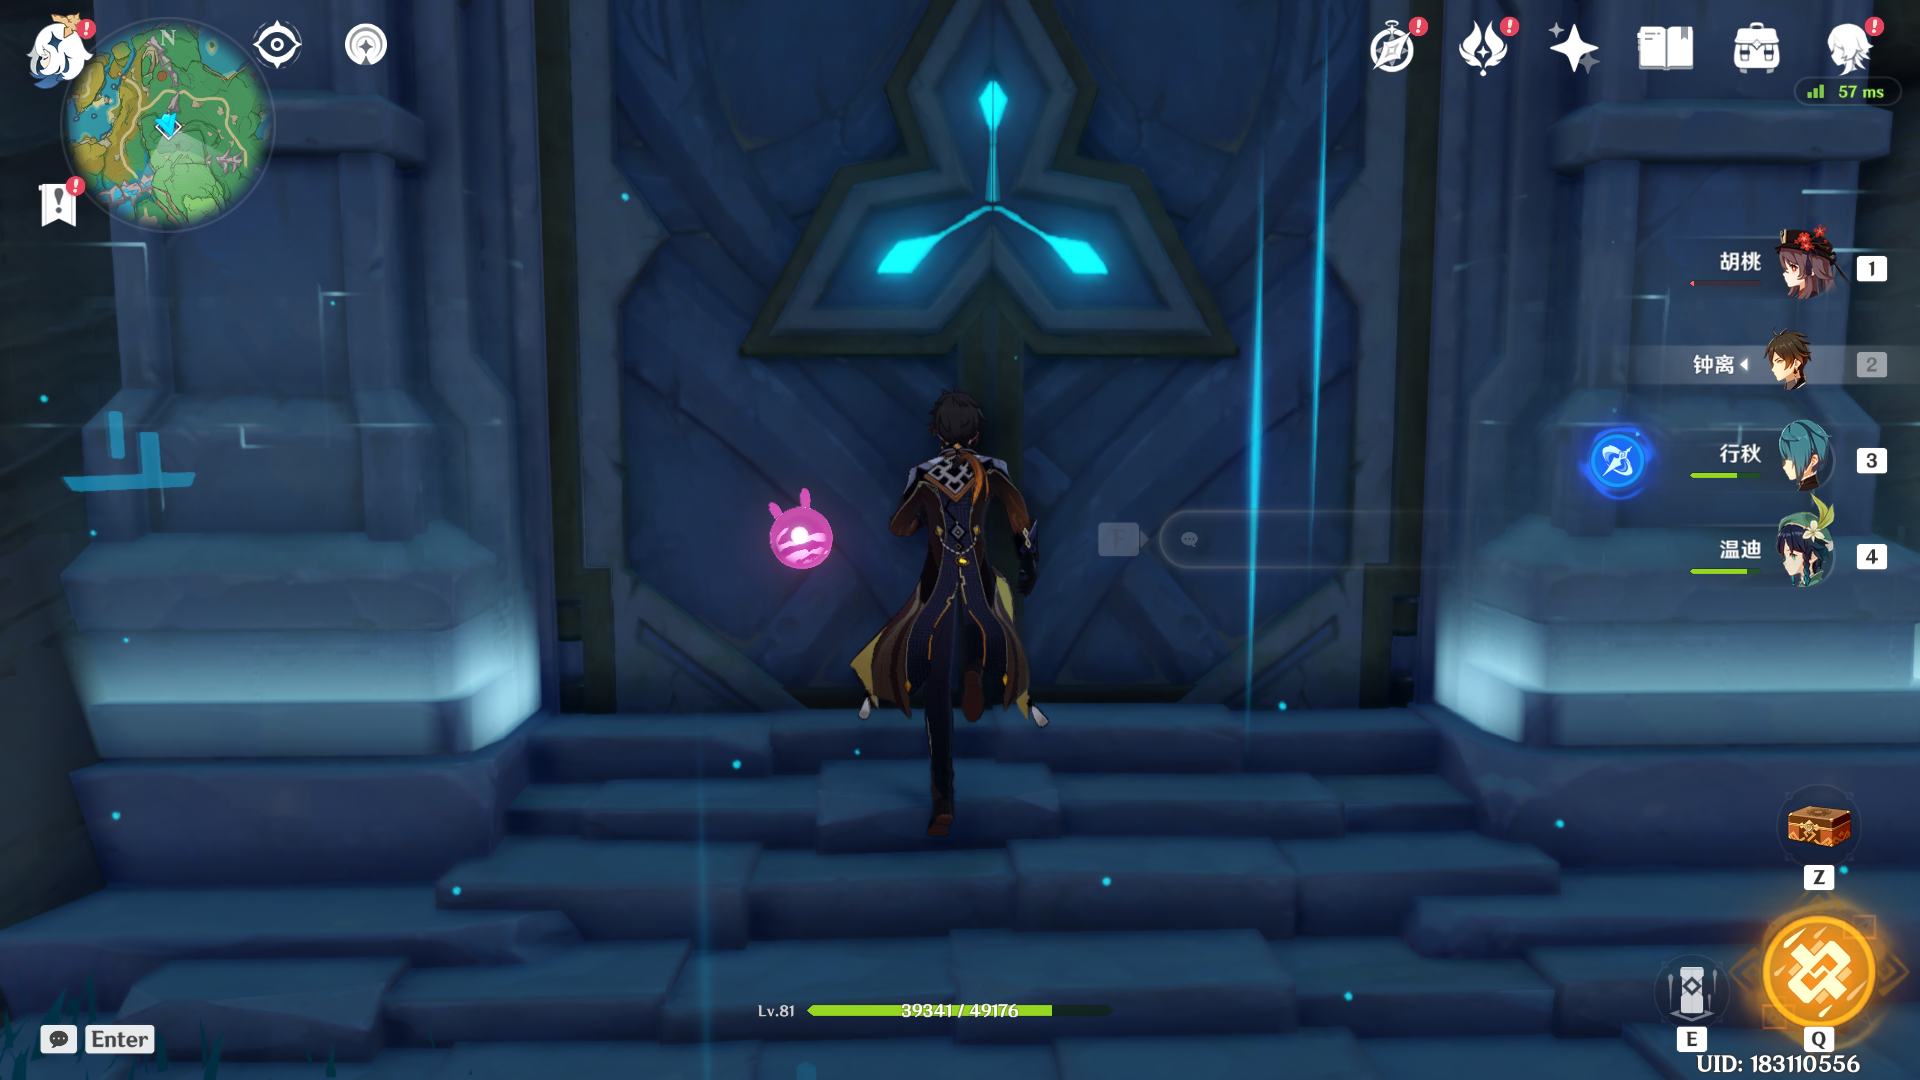character: (843, 364, 1091, 837)
